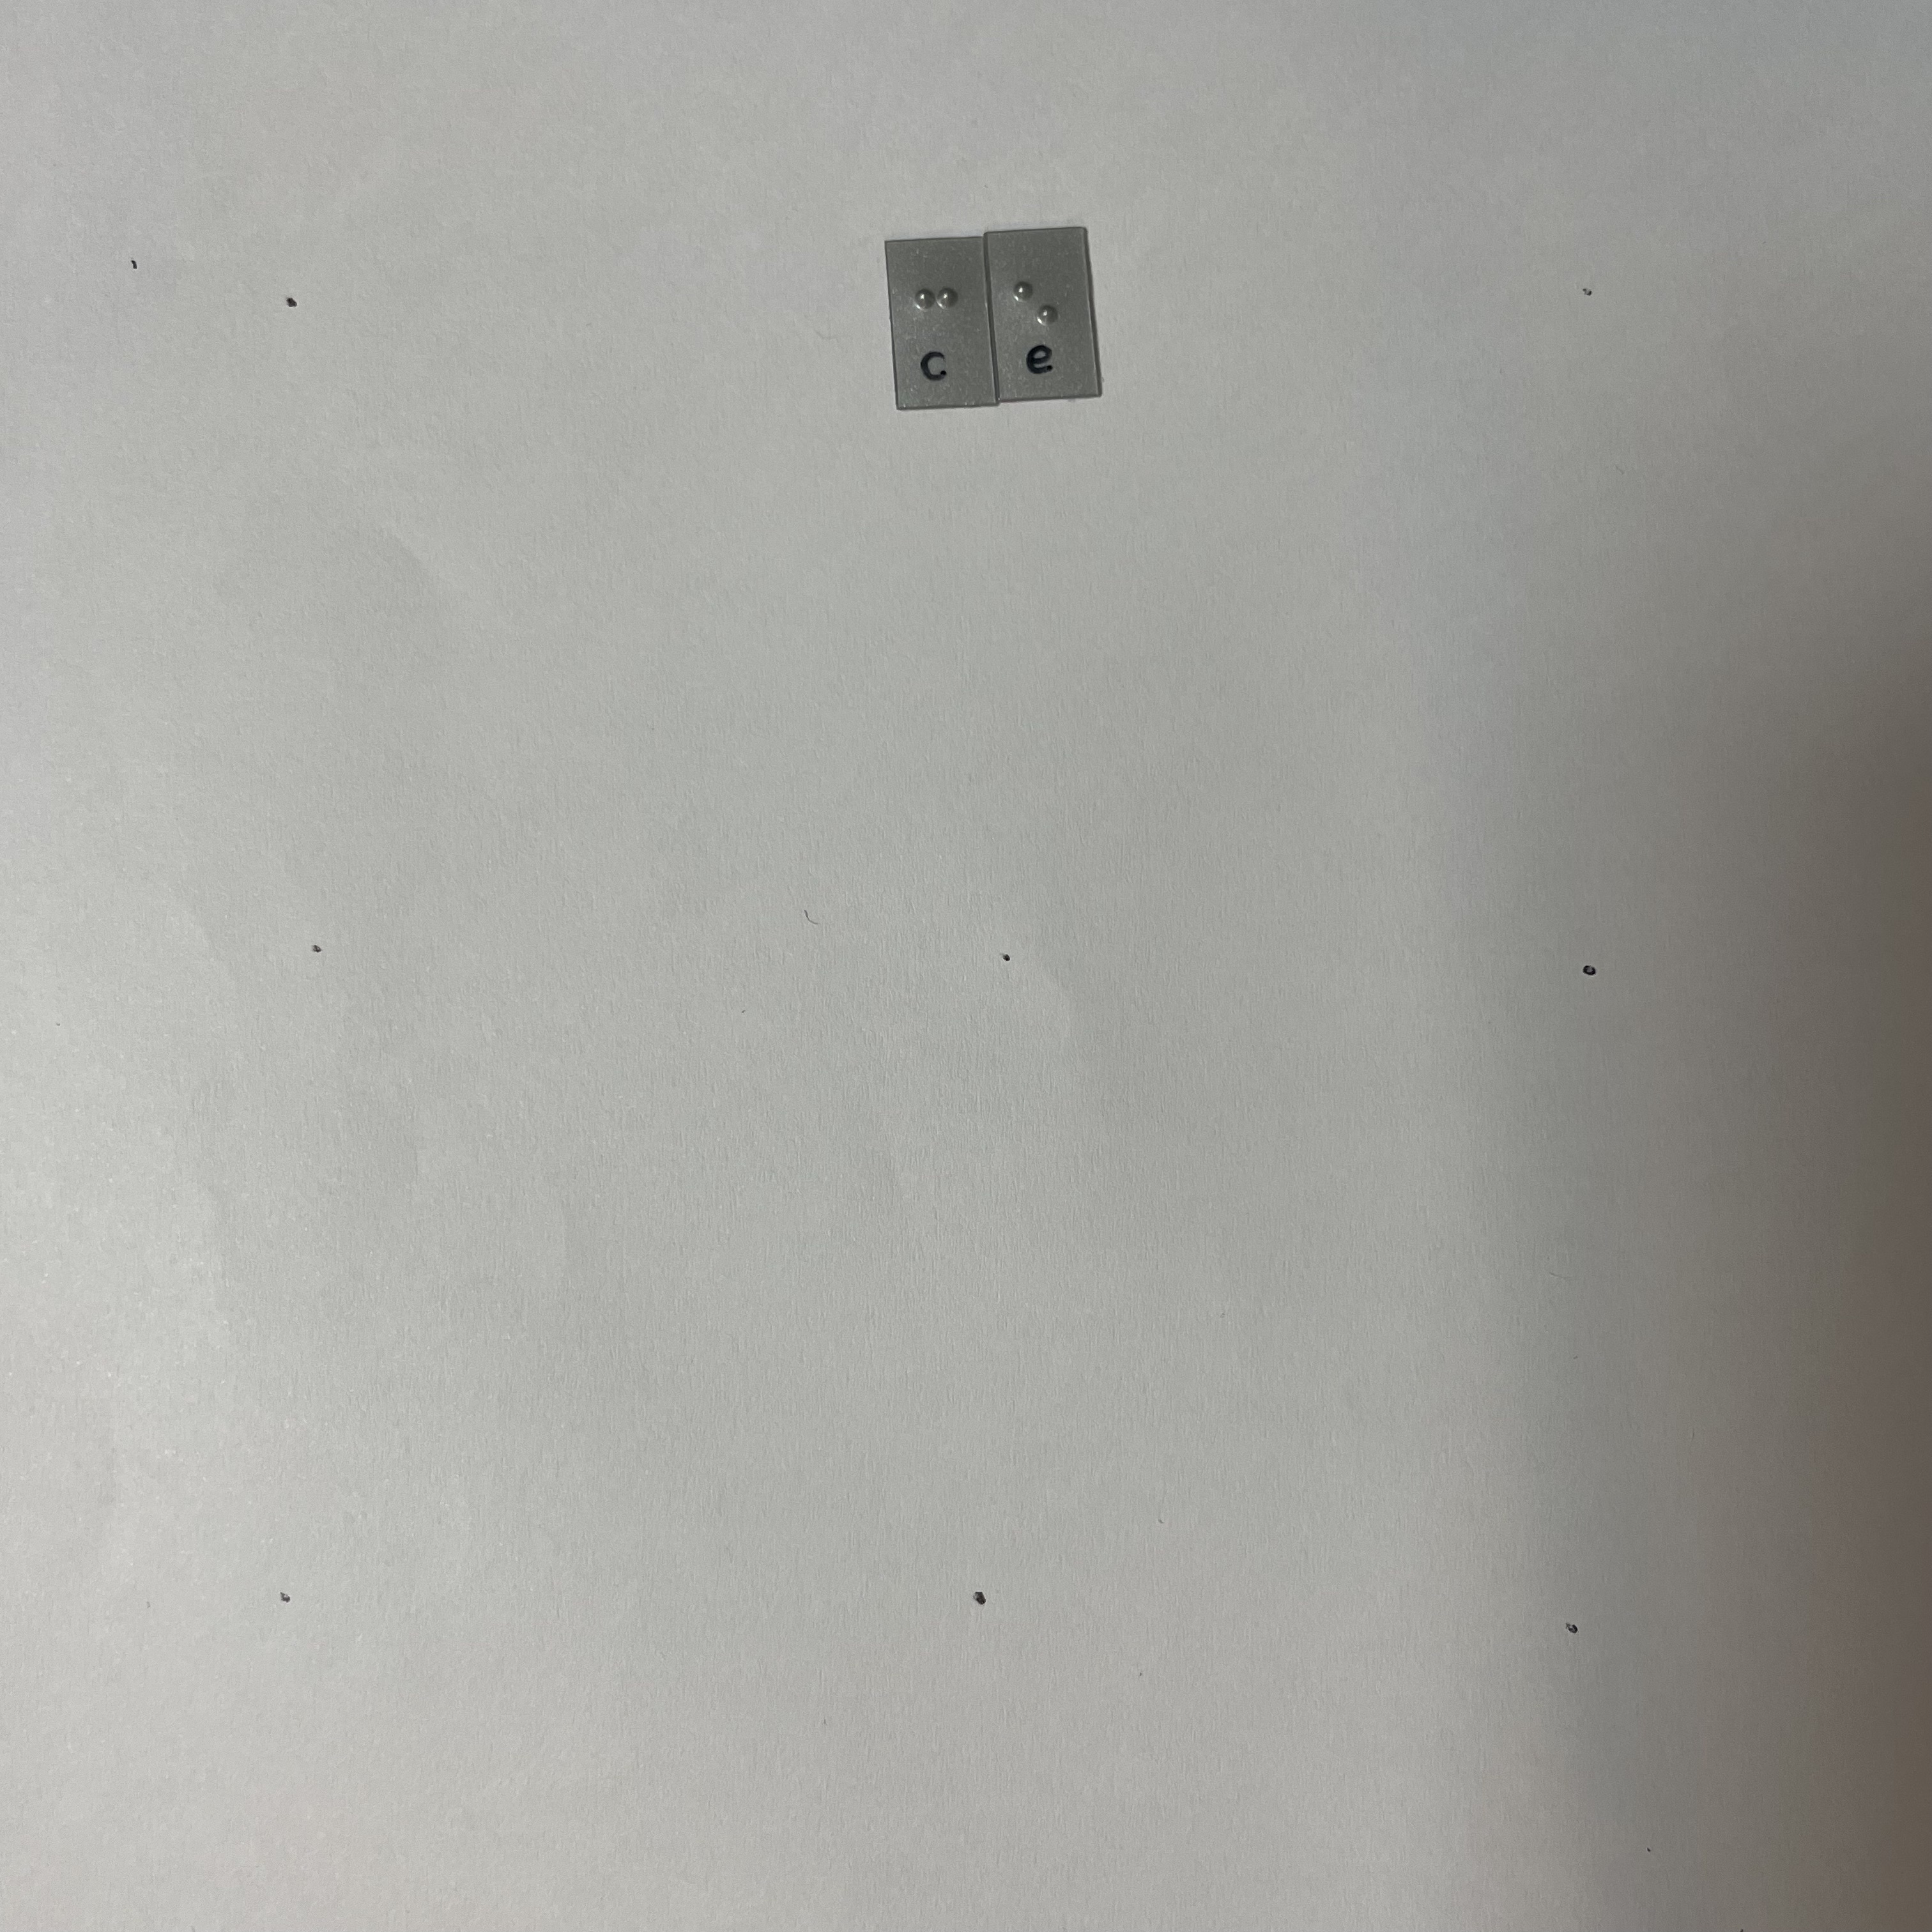c: (910, 275, 963, 350)
e: (1005, 266, 1062, 350)
